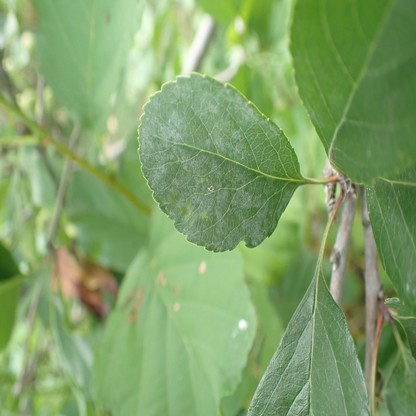frogeye_leaf_spot: (198, 260, 205, 274), (173, 302, 180, 311)
powdery_mildew: (138, 76, 294, 251), (373, 193, 416, 297)
